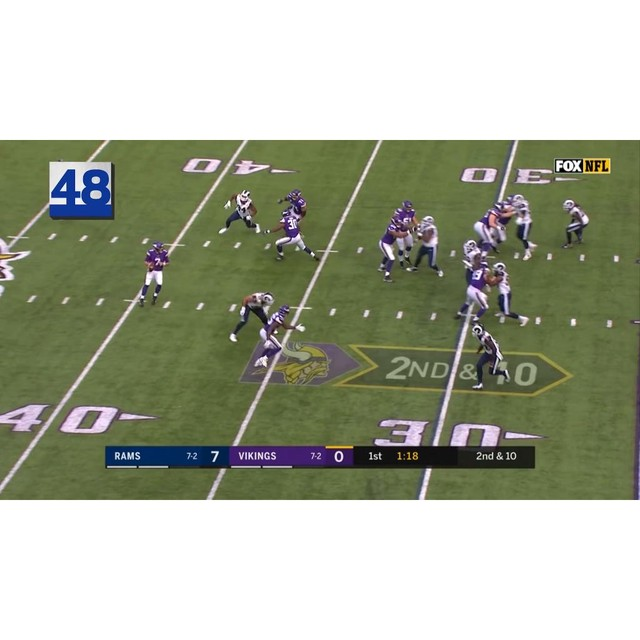american-football-player: (252, 304, 304, 369), (268, 208, 317, 262), (470, 324, 510, 389), (492, 261, 529, 326), (228, 291, 275, 342), (455, 259, 492, 322), (137, 240, 170, 307), (409, 215, 445, 276), (391, 198, 419, 271), (375, 213, 403, 282), (218, 190, 260, 235), (512, 194, 539, 259), (473, 202, 503, 254), (561, 199, 589, 249), (278, 188, 308, 221), (461, 238, 484, 273)
